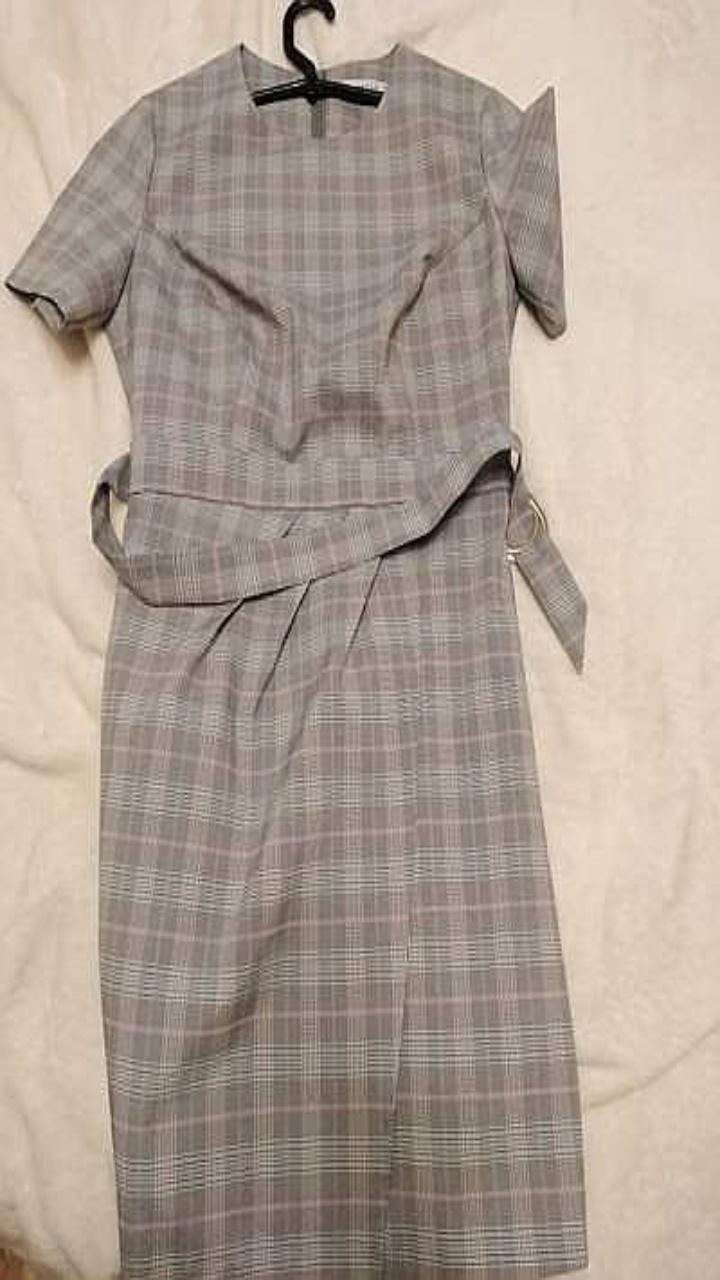Dresses: (5, 43, 587, 1279)
